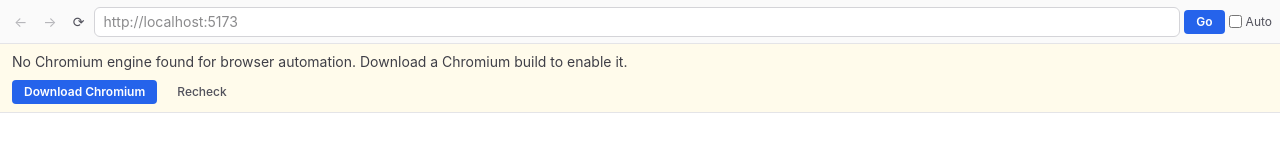
Test: BrowserPane (#71, #72) › Chromium engine consent banner (#217) › downloads Chromium and hides the banner on success
Expected: the element with test id "chromium-consent" is shown, [0, 44, 1279, 113]
Click the button labelled "Download Chromium" at point(85, 92), box [12, 80, 157, 104]
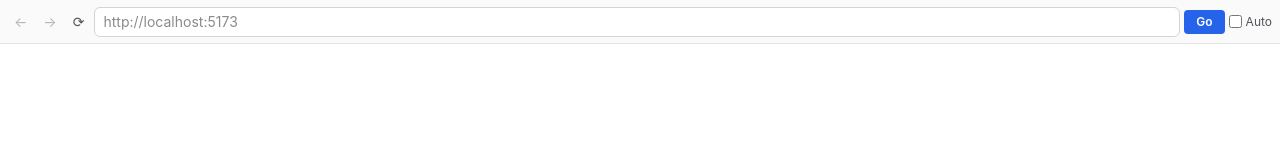
Result: the element with test id "chromium-consent" is gone
